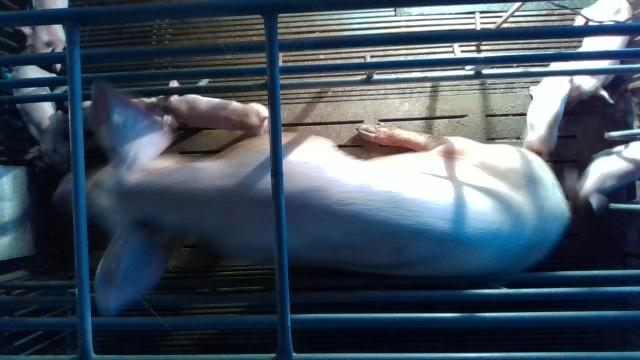piglet: (570, 0, 633, 106), (155, 80, 268, 137), (12, 65, 69, 171), (563, 139, 640, 217), (523, 62, 572, 157), (15, 0, 69, 71)
sow-sit: (52, 77, 572, 316)
